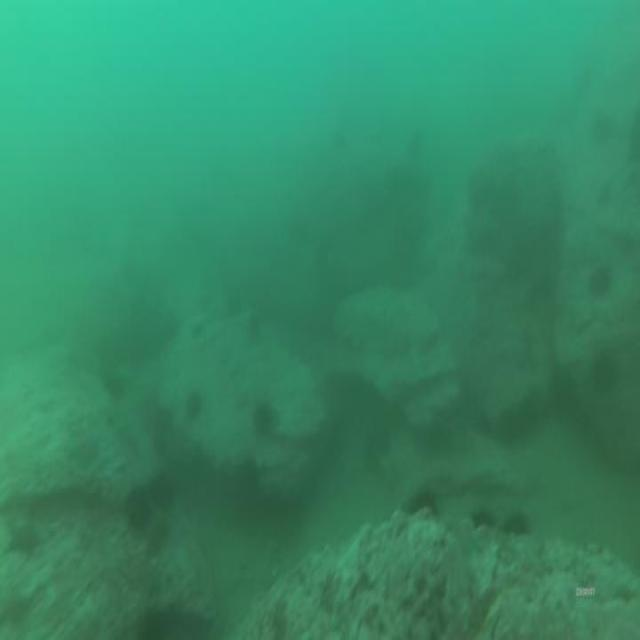echinus: (150, 466, 172, 514), (127, 493, 151, 533), (590, 261, 612, 300), (254, 403, 270, 436)
starfish: (8, 515, 41, 552)
